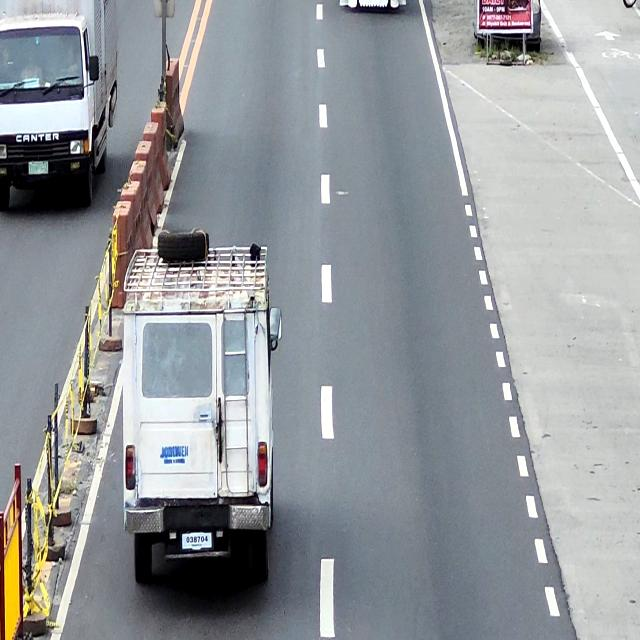Car: (121, 248, 282, 590)
License-Plate: (183, 533, 211, 549), (28, 160, 50, 176)
Truck: (0, 0, 118, 205)
